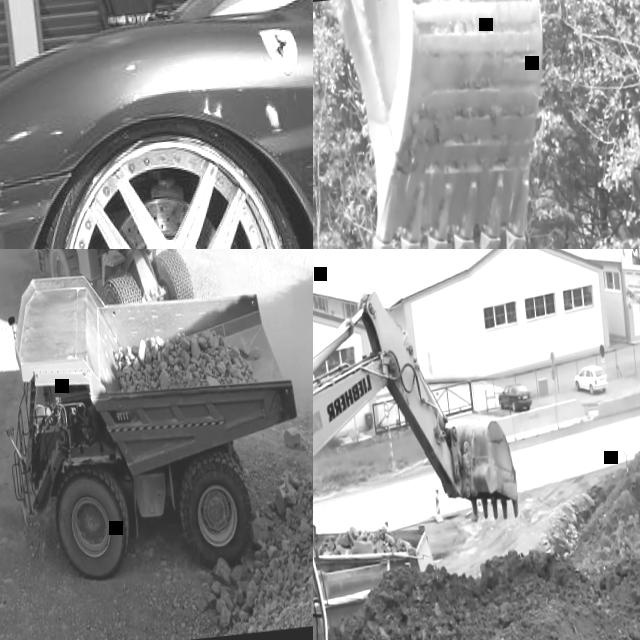machinery: (0, 249, 313, 591), (313, 273, 551, 640), (322, 0, 567, 249), (19, 249, 249, 312)
vehicle: (0, 0, 313, 249), (496, 381, 532, 415), (574, 364, 609, 397)
